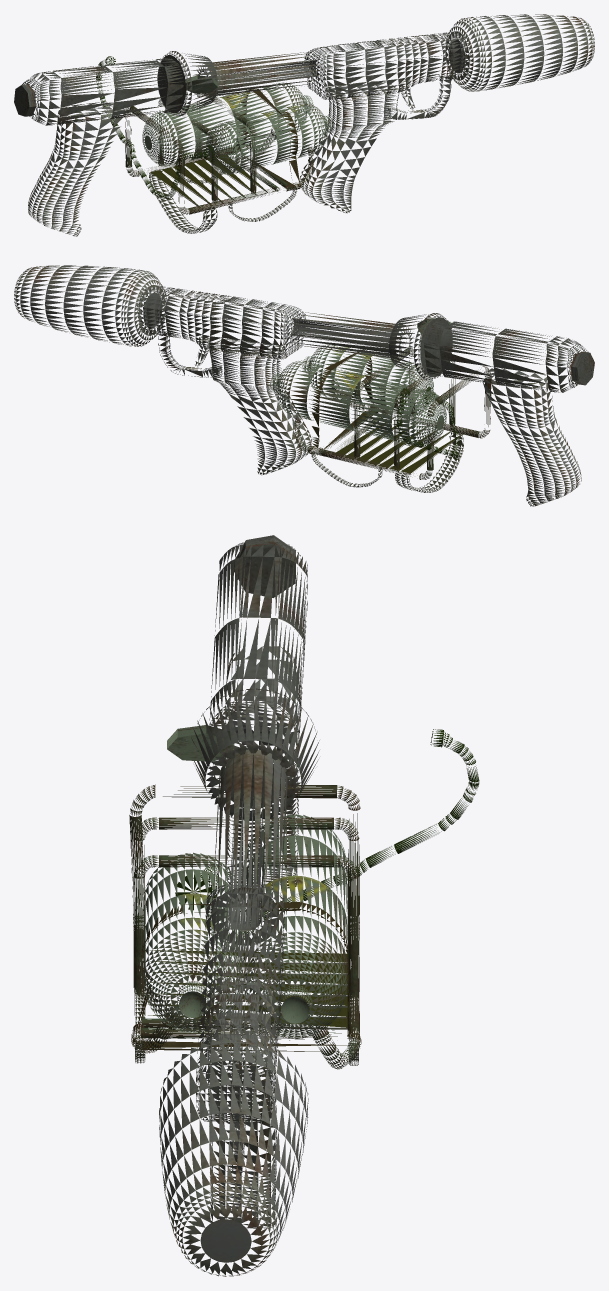
File: flamethrower_lod1.glb
The picture shows the model from 3 angles, top to bottom: view 1: azimuth 30°, elevation 25°; view 2: azimuth 150°, elevation 25°; view 3: azimuth 270°, elevation 25°; orthographic projection. The views are drawn at different scales.
Parts seen in each view (by area): view 1: Receiver_And_Body, Stripper_Clip, Scope_Assembly, Bolt_Carrier, Bolt_Safety_Sleeve, Bolt_Handle; view 2: Receiver_And_Body, Stripper_Clip, Scope_Assembly, Bolt_Carrier, Bolt_Safety_Sleeve; view 3: Stripper_Clip, Receiver_And_Body, Scope_Assembly, Bolt_Carrier, Bolt_Safety_Sleeve, Bolt_Handle.
Boxes of the visible parts, x1=… form: Receiver_And_Body: x1=22, y1=31, x2=470, y2=236; Stripper_Clip: x1=96, y1=56, x2=333, y2=233; Scope_Assembly: x1=445, y1=14, x2=594, y2=91; Bolt_Carrier: x1=157, y1=51, x2=217, y2=116; Bolt_Safety_Sleeve: x1=14, y1=84, x2=36, y2=116; Bolt_Handle: x1=185, y1=75, x2=217, y2=93; Receiver_And_Body: x1=137, y1=285, x2=588, y2=506; Stripper_Clip: x1=270, y1=344, x2=491, y2=492; Scope_Assembly: x1=14, y1=265, x2=166, y2=346; Bolt_Carrier: x1=389, y1=313, x2=452, y2=380; Bolt_Safety_Sleeve: x1=571, y1=351, x2=594, y2=385; Stripper_Clip: x1=129, y1=729, x2=479, y2=1069; Receiver_And_Body: x1=196, y1=541, x2=307, y2=1228; Scope_Assembly: x1=159, y1=1036, x2=308, y2=1276; Bolt_Carrier: x1=191, y1=688, x2=319, y2=821; Bolt_Safety_Sleeve: x1=234, y1=535, x2=295, y2=597; Bolt_Handle: x1=167, y1=725, x2=234, y2=761.
Size of the model in its own units: 1.11 by 0.3804 by 0.3026.
3 materials, 3 textured.
